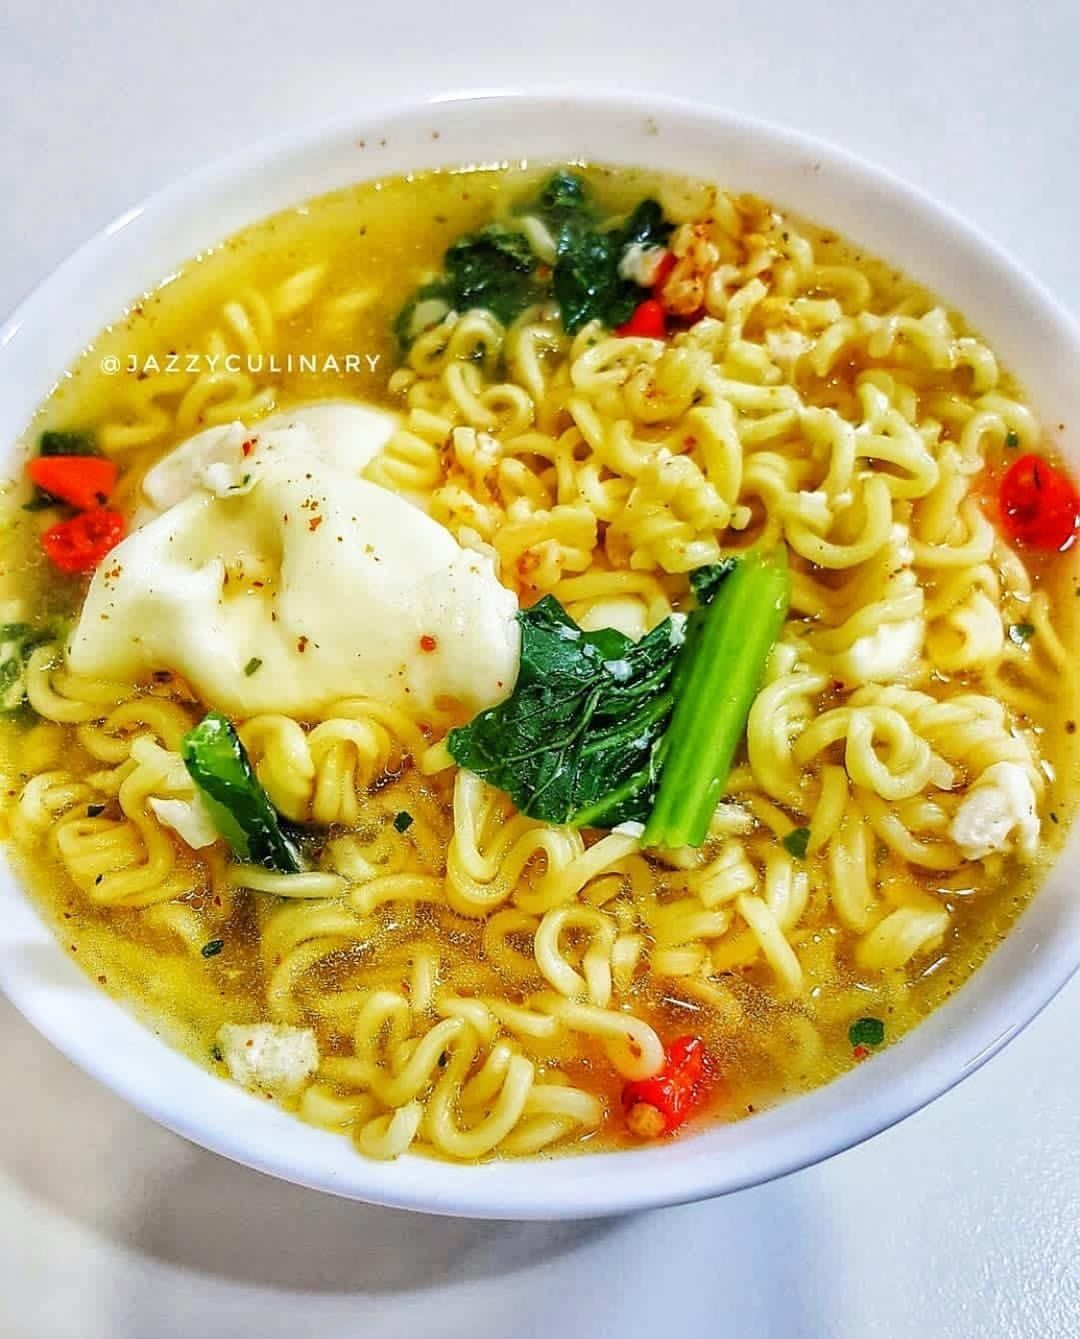Mie: (45, 264, 1050, 1152)
